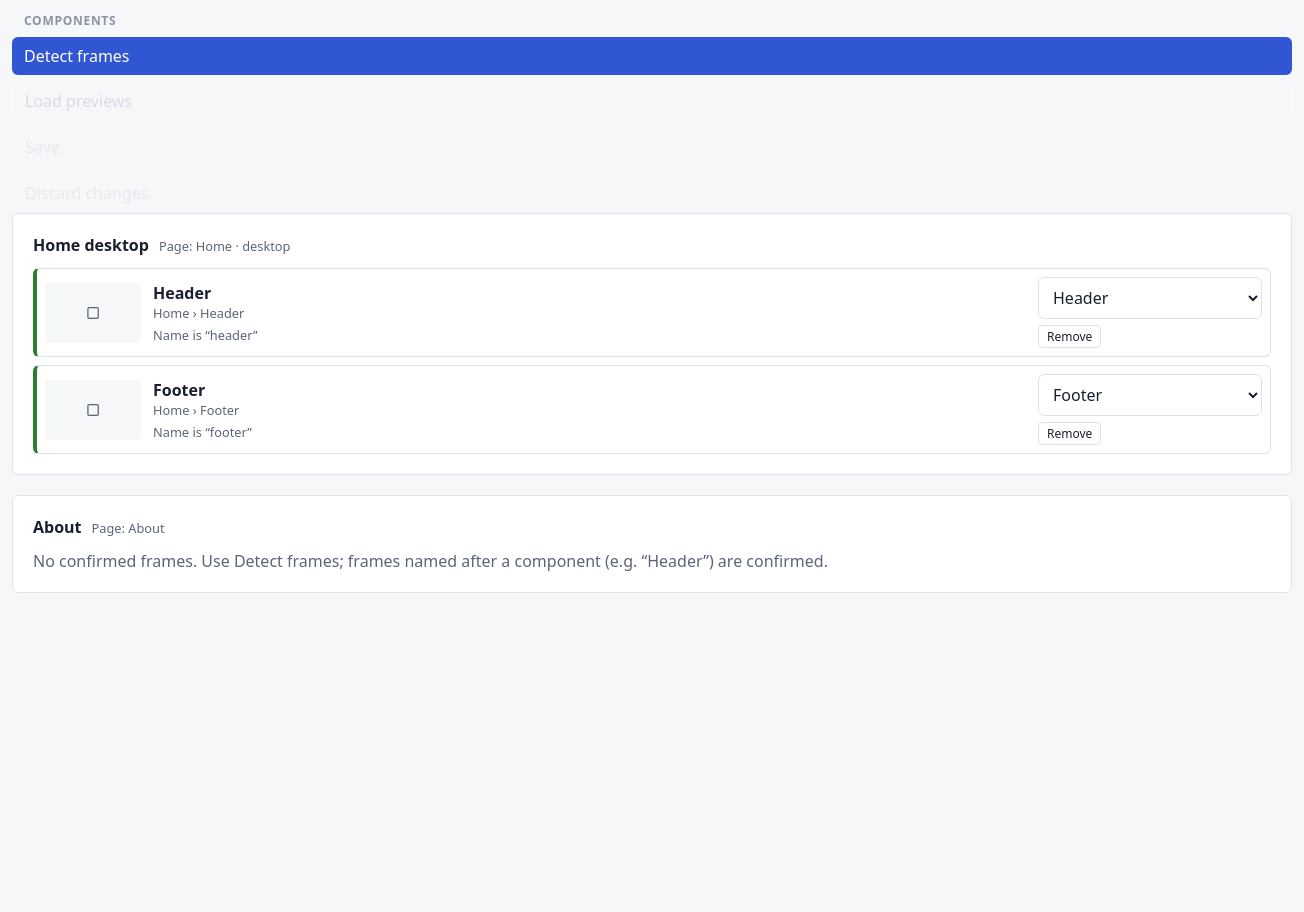
it: MappingView › detects frames and shows the count and notes
The width and height of the screenshot is (1304, 912).
Click the button "Detect frames": click(77, 56) 12,37 -> 1292,75
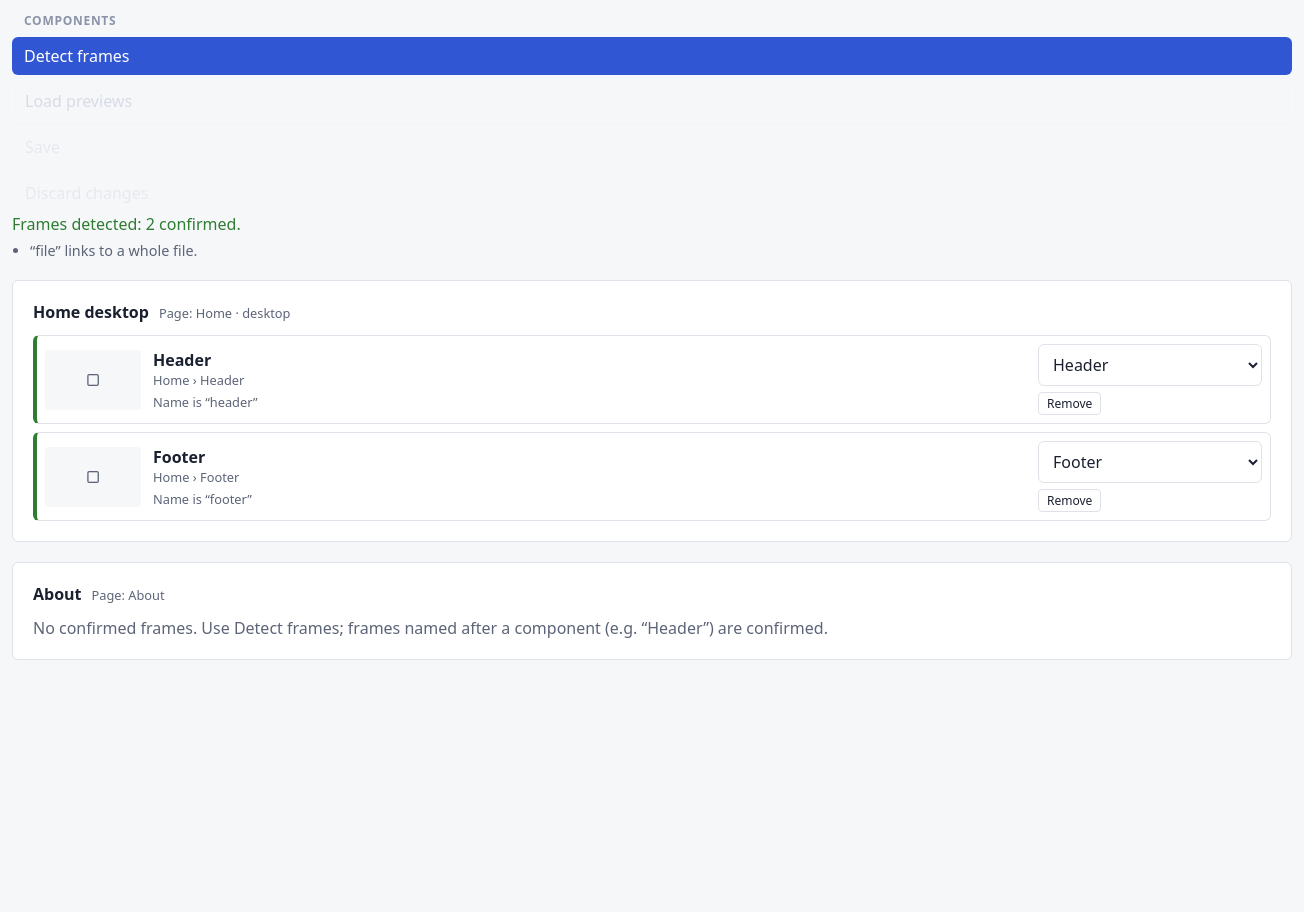
Result: the text "Frames detected: 2 confirmed." is shown at 12,213 -> 241,235
Result: the list item "“file” links to a whole file." is shown at 30,241 -> 197,260
